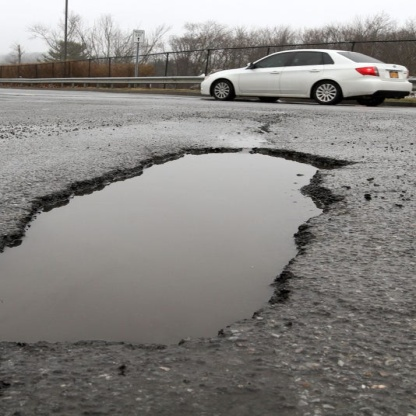pothole: (1, 143, 364, 354)
